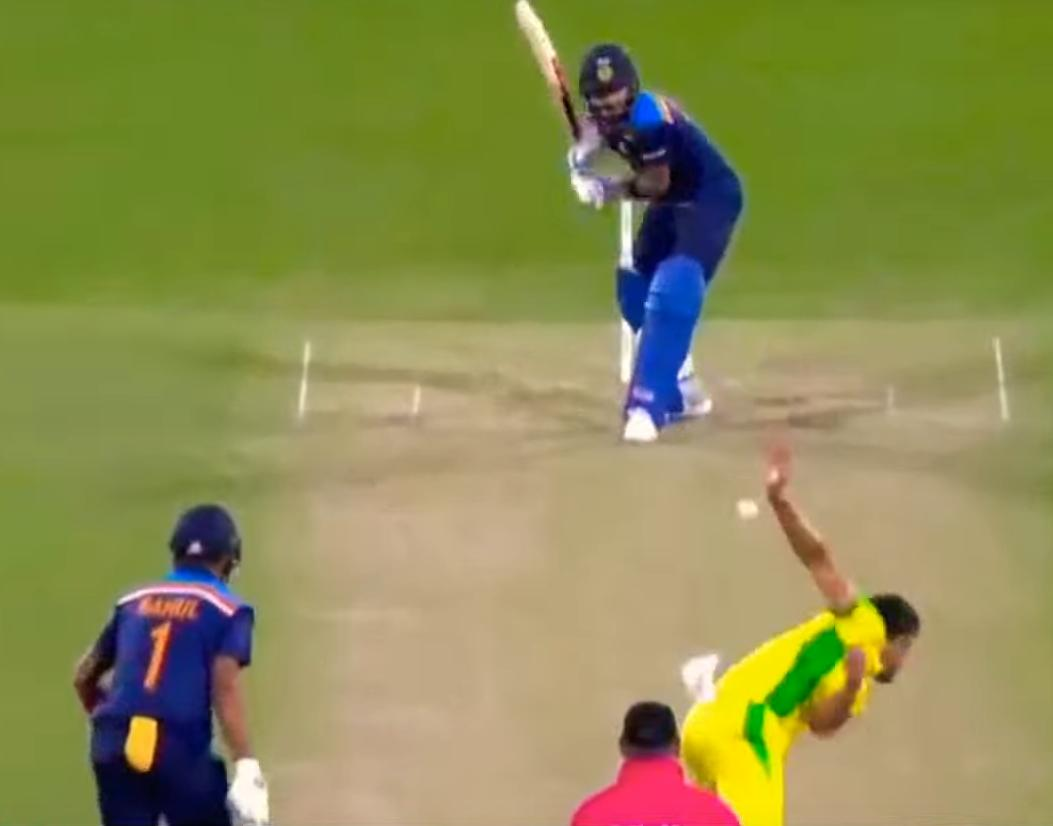Cricket-Ball: (731, 492, 763, 528)
